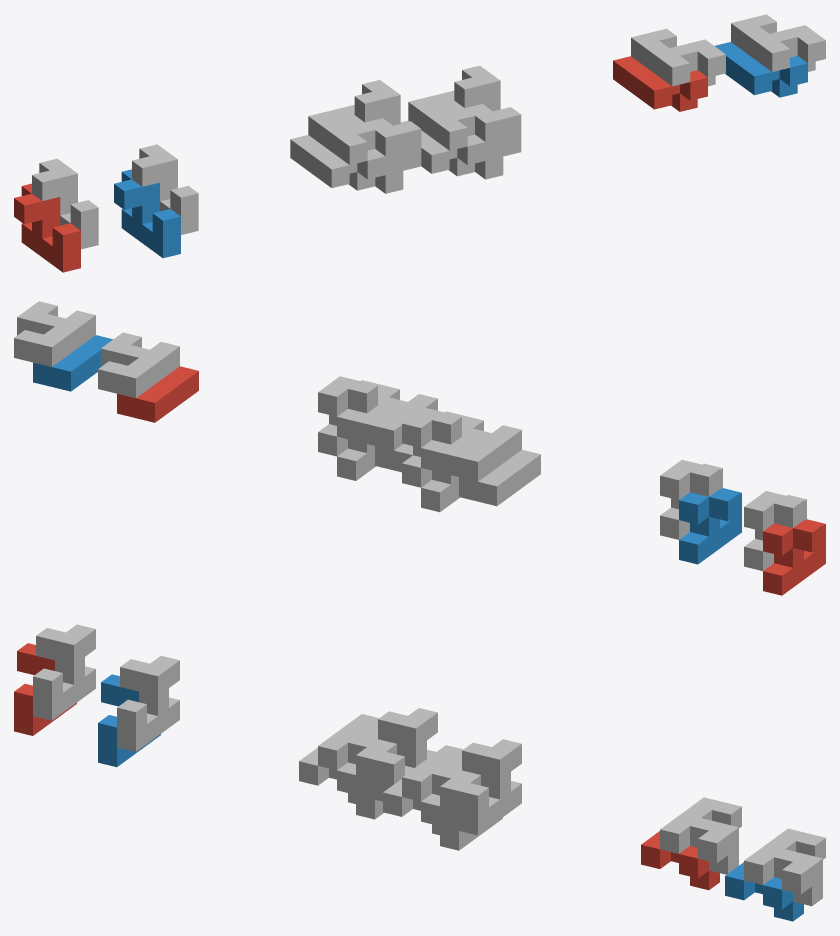
Rendered from tiling.obj.
3 renders of one model, top to bottom at view 1: azimuth 30°, elevation 25°; view 2: azimuth 150°, elevation 25°; view 3: azimuth 330°, elevation 25°, orthographic. The views are drawn at different scales.
Visible parts, largest first — view 1: copy_1_domain_1, copy_2_domain_7, copy_1_domain_2, copy_2_domain_8, copy_2_domain_3, copy_2_domain_4, copy_1_domain_3, copy_1_domain_4, copy_2_domain_1, copy_2_domain_5, copy_2_domain_6, copy_1_domain_7 (+4 smaller); view 2: copy_2_domain_7, copy_2_domain_8, copy_1_domain_2, copy_1_domain_1, copy_2_domain_3, copy_1_domain_4, copy_1_domain_3, copy_1_domain_7, copy_1_domain_8, copy_2_domain_4, copy_2_domain_1, copy_2_domain_5 (+4 smaller); view 3: copy_1_domain_3, copy_1_domain_8, copy_1_domain_4, copy_2_domain_8, copy_2_domain_7, copy_1_domain_7, copy_2_domain_3, copy_2_domain_4, copy_1_domain_2, copy_1_domain_1, copy_2_domain_5, copy_2_domain_6 (+4 smaller).
Part boxes in pixels (box(x1,y1,x2,y2)): copy_1_domain_1: box(14, 183, 80, 272); copy_2_domain_7: box(631, 28, 725, 86); copy_1_domain_2: box(114, 169, 180, 258); copy_2_domain_8: box(731, 14, 825, 71); copy_2_domain_3: box(308, 107, 403, 164); copy_2_domain_4: box(408, 93, 503, 150); copy_1_domain_3: box(32, 158, 98, 249); copy_1_domain_4: box(132, 144, 198, 234); copy_2_domain_1: box(290, 135, 385, 190); copy_2_domain_5: box(613, 56, 707, 111); copy_2_domain_6: box(715, 42, 807, 97); copy_1_domain_7: box(354, 80, 421, 170); copy_2_domain_7: box(98, 332, 179, 398); copy_2_domain_8: box(14, 301, 95, 366); copy_1_domain_2: box(679, 488, 741, 564); copy_1_domain_1: box(763, 519, 825, 595); copy_2_domain_3: box(440, 416, 521, 481); copy_1_domain_4: box(660, 459, 722, 539); copy_1_domain_3: box(744, 491, 806, 570); copy_1_domain_7: box(402, 407, 464, 487); copy_1_domain_8: box(318, 376, 380, 456); copy_2_domain_4: box(356, 384, 437, 450); copy_2_domain_1: box(459, 449, 540, 506); copy_2_domain_5: box(117, 366, 198, 422); copy_1_domain_3: box(33, 624, 95, 720); copy_1_domain_8: box(459, 739, 521, 835); copy_1_domain_4: box(117, 655, 179, 751); copy_2_domain_8: box(744, 828, 825, 906); copy_2_domain_7: box(660, 797, 741, 874); copy_1_domain_7: box(375, 708, 437, 801); copy_2_domain_3: box(318, 714, 396, 779); copy_2_domain_4: box(402, 745, 480, 810); copy_1_domain_2: box(98, 674, 160, 767); copy_1_domain_1: box(14, 643, 76, 735); copy_2_domain_5: box(641, 831, 719, 890); copy_2_domain_6: box(725, 862, 803, 921).
Bounding box in the file's own units: 43 × 4 × 5.
